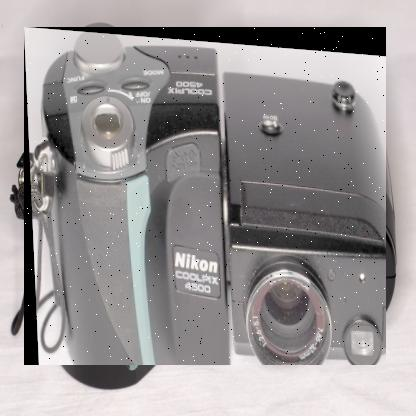Camera: (25, 28, 388, 367)
